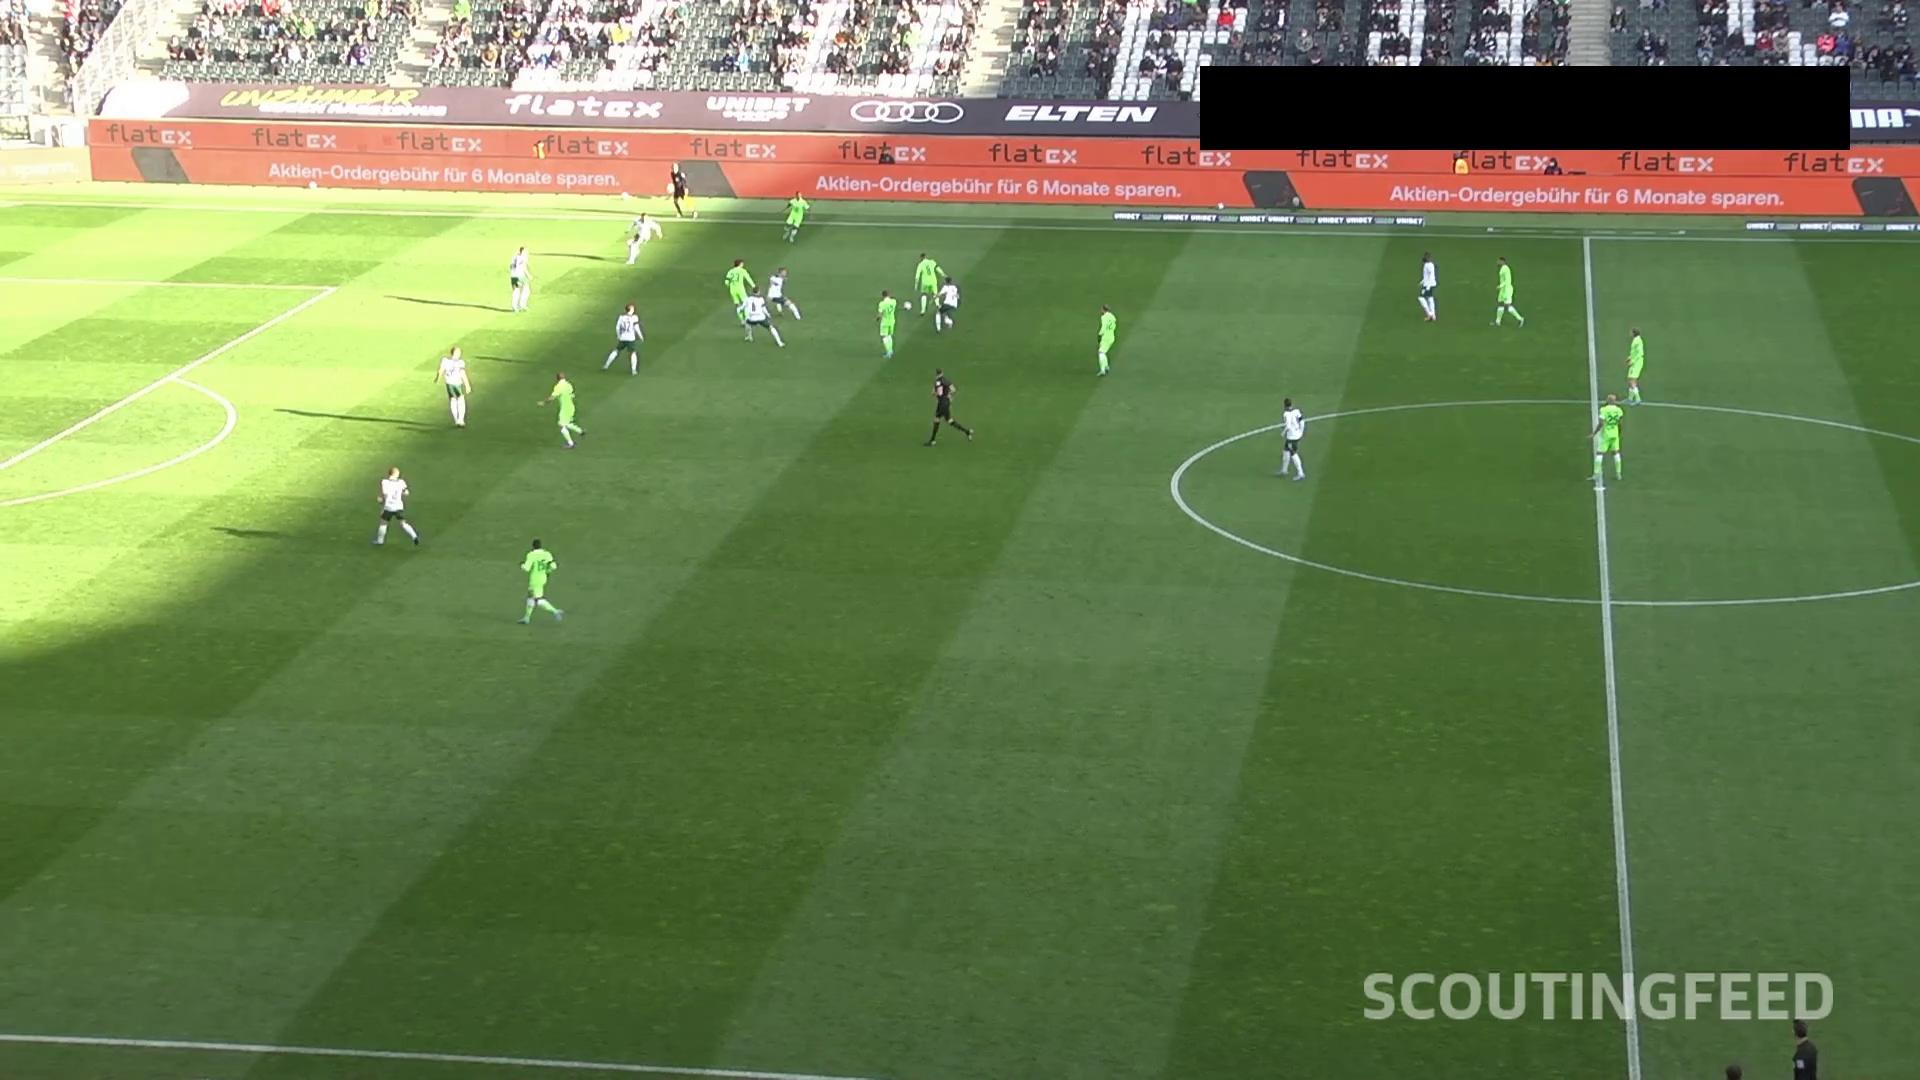Location-of-ball: (895, 295, 920, 314)
